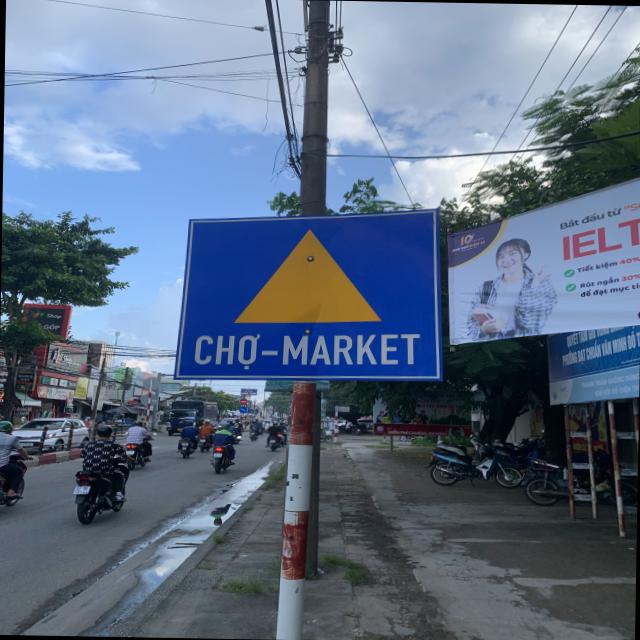Cho_Quay_Xe: (171, 206, 449, 384)
